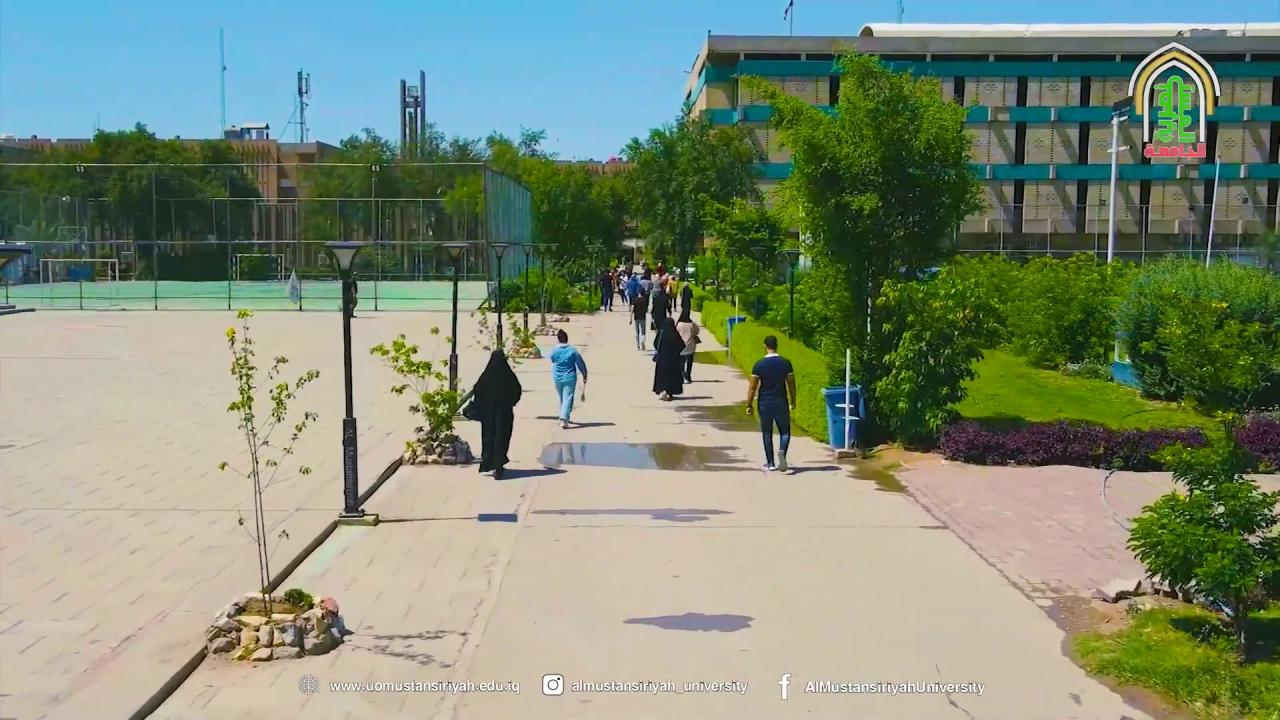person: (461, 348, 522, 478), (745, 335, 797, 471), (549, 328, 587, 429), (651, 314, 686, 401), (676, 310, 701, 384)
tree: (738, 40, 989, 445), (3, 121, 264, 281), (297, 121, 551, 279), (1123, 416, 1279, 659), (217, 308, 320, 618), (865, 251, 1018, 450), (1111, 251, 1279, 413), (615, 102, 759, 286), (485, 142, 609, 313), (298, 127, 408, 279), (1004, 249, 1135, 368), (368, 327, 464, 462), (697, 193, 784, 318), (436, 171, 484, 276)
